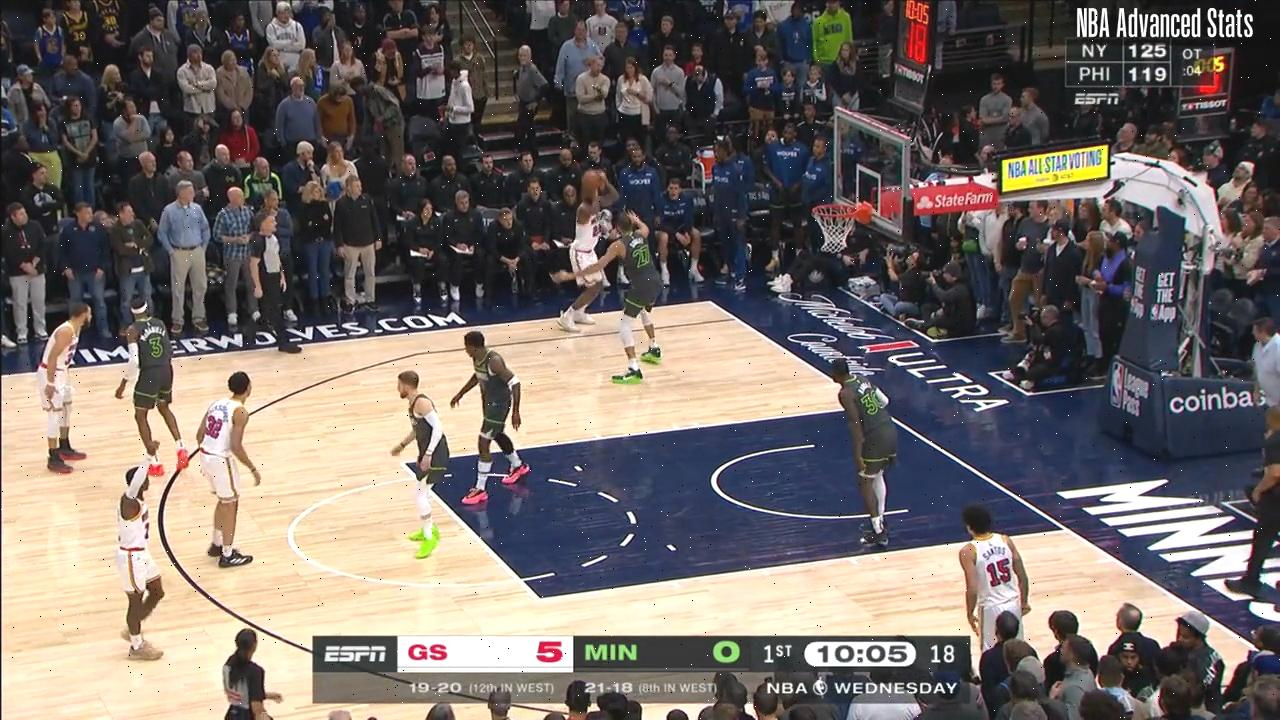basketball: (583, 164, 607, 196)
